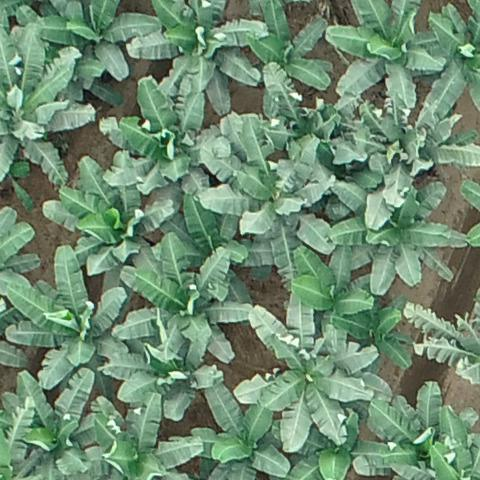Banana-plant: (203, 117, 335, 291), (236, 289, 375, 449), (114, 233, 253, 369), (342, 97, 480, 228), (7, 247, 127, 389), (331, 173, 467, 295), (0, 22, 94, 186), (44, 156, 172, 273), (129, 1, 265, 111), (99, 75, 209, 193), (328, 0, 443, 111), (362, 381, 480, 480), (2, 369, 101, 480), (99, 330, 222, 419), (259, 63, 359, 167), (40, 0, 159, 83), (189, 384, 291, 480), (89, 397, 200, 480), (281, 410, 391, 480), (254, 0, 329, 95), (423, 0, 480, 117), (331, 293, 413, 371), (165, 194, 245, 266), (294, 243, 373, 313)
